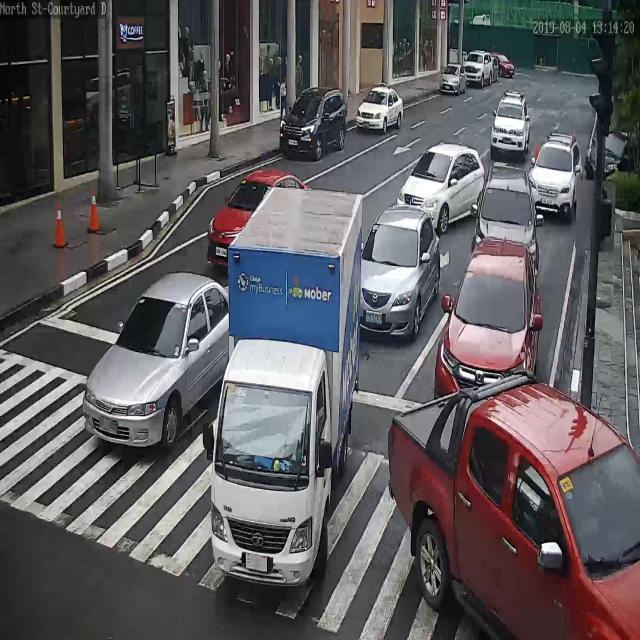car: (388, 372, 640, 640), (82, 272, 229, 446), (434, 236, 540, 399), (361, 203, 442, 339), (207, 170, 310, 265), (397, 143, 486, 232), (473, 165, 539, 280), (279, 87, 347, 158), (528, 133, 582, 220), (585, 126, 640, 178), (491, 92, 531, 157), (355, 84, 404, 133), (464, 50, 496, 86), (440, 63, 471, 95), (492, 51, 516, 79)
motorcycle: (210, 187, 363, 588)
